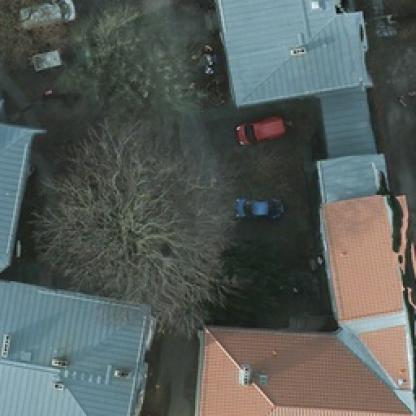car: (234, 116, 291, 144), (230, 192, 283, 220)
van: (16, 0, 75, 28)
